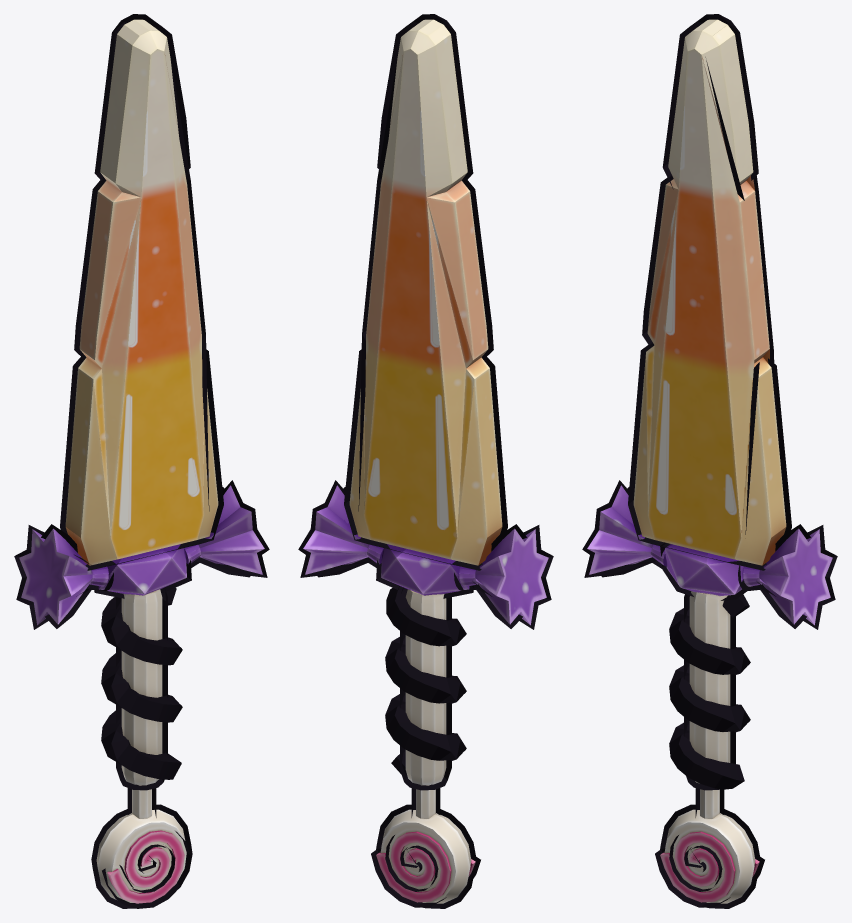
Rendered from CandyCornSword.fbx.
3 views of the same model, side by side, from view 1: azimuth 30°, elevation 25°; view 2: azimuth 150°, elevation 25°; view 3: azimuth 330°, elevation 25° (orthographic).
Visible parts, largest first — view 1: CandyCornSword, CandyCornSwordOutline; view 2: CandyCornSword, CandyCornSwordOutline; view 3: CandyCornSword, CandyCornSwordOutline.
Part boxes in pixels (bbox=[...]): CandyCornSword: bbox=[19, 19, 264, 903]; CandyCornSwordOutline: bbox=[14, 14, 269, 908]; CandyCornSword: bbox=[303, 19, 548, 903]; CandyCornSwordOutline: bbox=[298, 14, 553, 908]; CandyCornSword: bbox=[587, 19, 832, 903]; CandyCornSwordOutline: bbox=[582, 14, 837, 908].
Size of the model in its own units: 97.3 by 382 by 44.58.
Materials: 2 (1 with a texture image).
